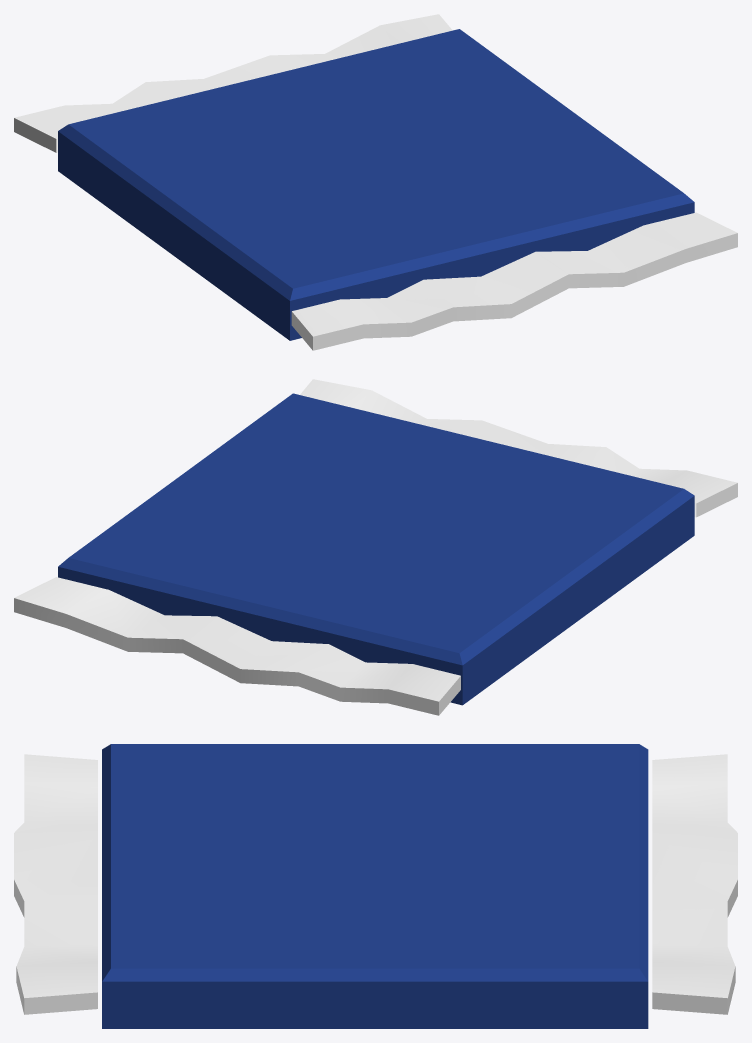
The model's file is SM_chocolate_03.fbx.
The picture shows the model from 3 angles, top to bottom: view 1: azimuth 30°, elevation 25°; view 2: azimuth 150°, elevation 25°; view 3: azimuth 270°, elevation 25°; orthographic projection. The views are drawn at different scales.
Parts seen in each view (by area): view 1: chocolate_03; view 2: chocolate_03; view 3: chocolate_03.
Boxes of the visible parts, <box> form: chocolate_03: <box>14,14,737,350</box>; chocolate_03: <box>14,379,737,715</box>; chocolate_03: <box>14,744,737,1028</box>.
Size of the model in its own units: 24.69 by 2.65 by 30.96.
